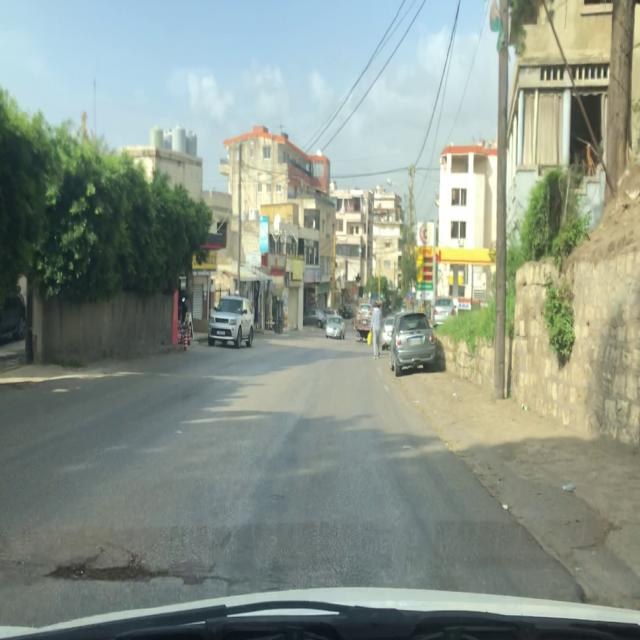Pothole: (46, 556, 161, 588)
